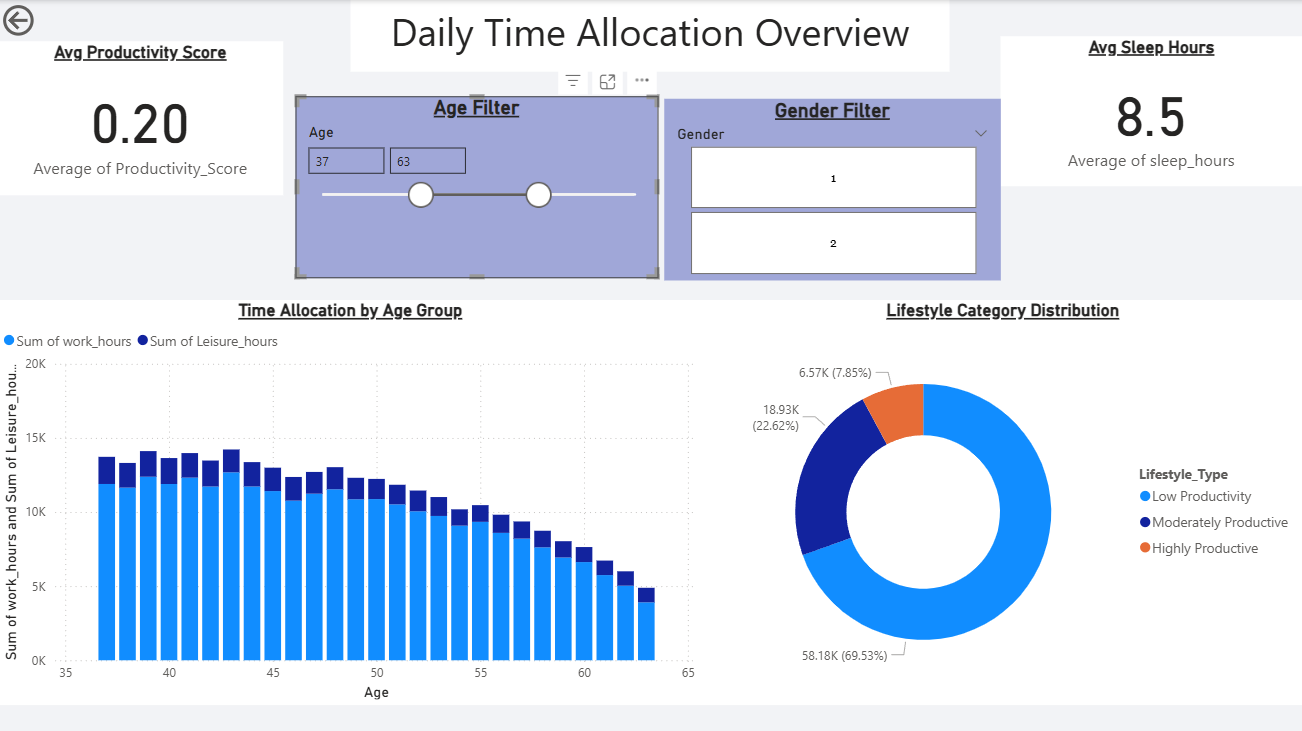

What the dashboard file says about the page in this screenshot:
{"tool":"powerbi","page":{"name":"Page 1","canvas":[1280,720],"ordinal":0},"visuals":[{"type":"textbox","box":[345.9,0,588.2,70.6],"z":0},{"type":"card","title":"Avg Productivity Score","fields":{"Values":["Avg(atussum.Productivity_Score)"]},"box":[0,39.9,279.6,151.4],"z":1000},{"type":"card","title":"Avg Sleep Hours","fields":{"Values":["Avg(atussum.sleep_hours)"]},"box":[984,35.7,296.5,147.2],"z":2000},{"type":"columnChart","title":"Time Allocation by Age Group","fields":{"Category":["atussum.Age"],"Y":["Sum(atussum.work_hours)","Sum(atussum.Leisure_hours)"]},"box":[0,294.4,691.7,397.4],"z":3000},{"type":"donutChart","title":"Lifestyle Category Distribution","fields":{"Category":["atussum.Lifestyle_Type"],"Y":["CountNonNull(atussum.Lifestyle_Type)"]},"box":[691.7,294.4,588.7,397.4],"z":4000},{"type":"slicer","title":"Age Filter","fields":{"Values":["atussum.Age"]},"box":[292.2,94.6,355.3,178.7],"z":5000},{"type":"actionButton","box":[0,0,100,40],"z":6000},{"type":"slicer","title":"Gender Filter","fields":{"Values":["atussum.Gender"]},"box":[653.9,96.7,330.1,178.7],"z":7000}]}

Visuals, with their boxes on the page's 1280x720 design canvas (x1, y1, x2, y2). These are canvas units, not pixel positions in the 1302x731 screenshot, which may show the page scaled, cropped or inside an application window:
textbox: Rect(346, 0, 934, 71)
"Avg Productivity Score" card: Rect(0, 40, 280, 191)
"Avg Sleep Hours" card: Rect(984, 36, 1280, 183)
"Time Allocation by Age Group" columnChart: Rect(0, 294, 692, 692)
"Lifestyle Category Distribution" donutChart: Rect(692, 294, 1280, 692)
"Age Filter" slicer: Rect(292, 95, 648, 273)
actionButton: Rect(0, 0, 100, 40)
"Gender Filter" slicer: Rect(654, 97, 984, 275)
